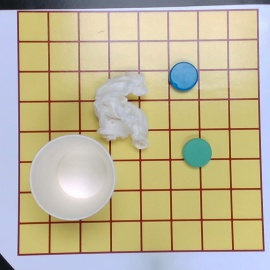blue: (170, 61, 199, 90)
cup: (28, 135, 116, 221)
green: (184, 138, 213, 166)
